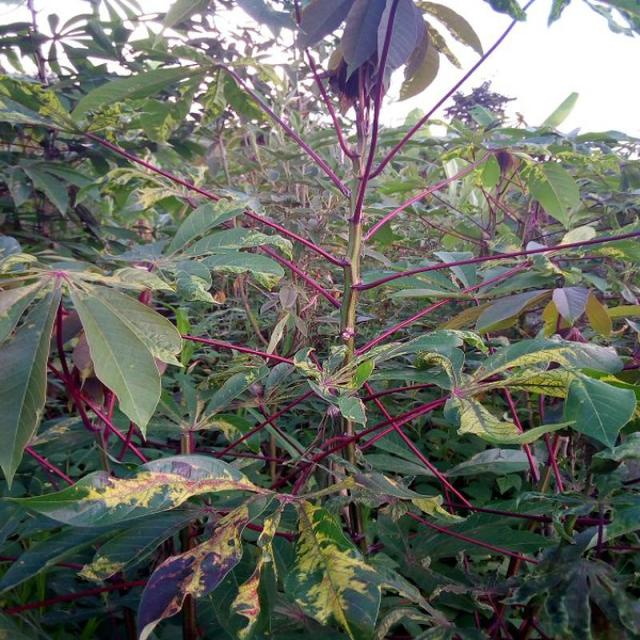cassava leaf: (62, 271, 182, 442), (0, 272, 62, 490), (562, 373, 636, 450)
